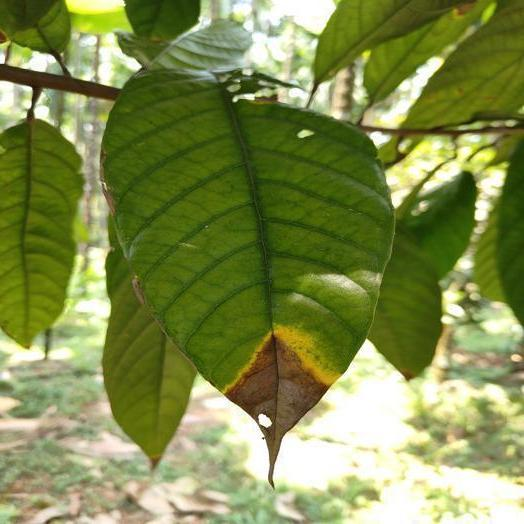Potassium: (103, 70, 393, 483)
